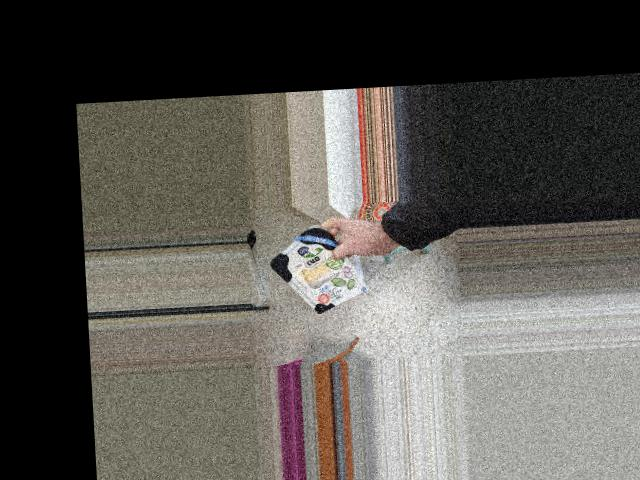cheese: (270, 220, 362, 324)
